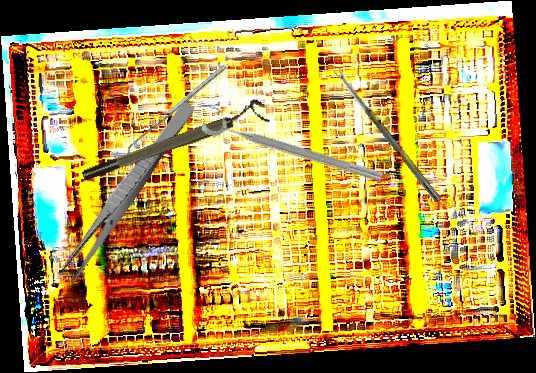Dressing Forceps: (57, 96, 198, 283)
Fixation Ring: (77, 96, 271, 185), (200, 103, 388, 187)
Spatula Surgical: (121, 64, 231, 158)
Surgical Spoon: (333, 67, 443, 203)
